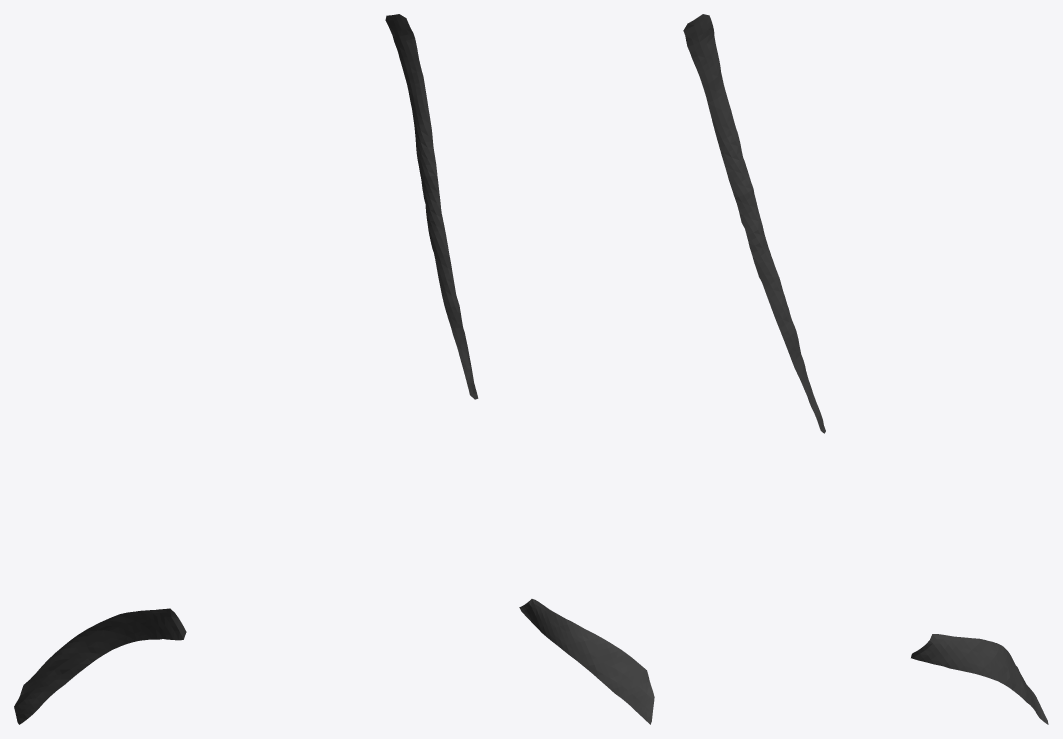
The model's file is eq_dist_limb_Lateral_Digital_Ext_Tendon.glb.
3 views of the same model, side by side, from view 1: azimuth 30°, elevation 25°; view 2: azimuth 210°, elevation 25°; view 3: azimuth 270°, elevation 25° (orthographic). The views are drawn at different scales.
Visible parts, largest first — view 1: eq_dist_limb_Lateral_Digital_Ext_Tendon; view 2: eq_dist_limb_Lateral_Digital_Ext_Tendon; view 3: eq_dist_limb_Lateral_Digital_Ext_Tendon.
Part boxes in pixels (x1,y1,x2,y2): eq_dist_limb_Lateral_Digital_Ext_Tendon: [14, 608, 186, 724]; eq_dist_limb_Lateral_Digital_Ext_Tendon: [385, 14, 654, 724]; eq_dist_limb_Lateral_Digital_Ext_Tendon: [683, 14, 1048, 724].
Bounding box in the file's own units: 0.00613 × 0.0293 × 0.0125.
Materials: 1 (1 with a texture image).
